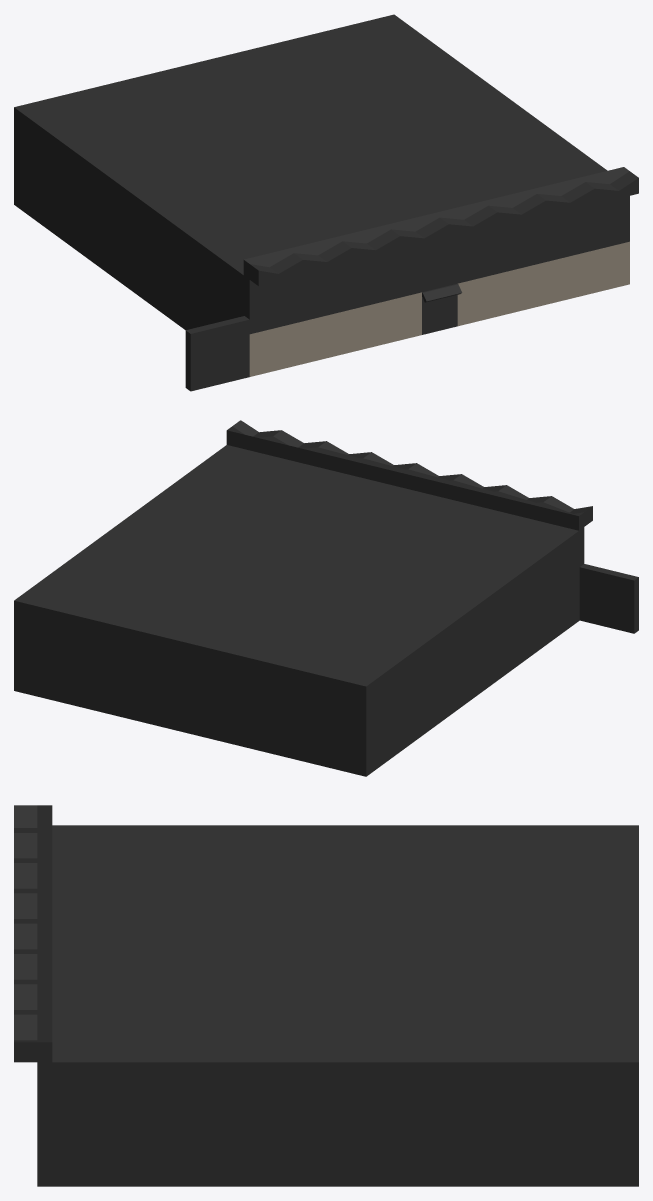
The model's file is loja_27.fbx.
3 renders of one model, top to bottom at view 1: azimuth 30°, elevation 25°; view 2: azimuth 150°, elevation 25°; view 3: azimuth 270°, elevation 25°, orthographic. The views are drawn at different scales.
Parts seen in each view (by area): view 1: Cube; view 2: Cube; view 3: Cube.
Part boxes in pixels (x1,y1,x2,y2): Cube: (14,14,638,391); Cube: (14,420,638,776); Cube: (14,805,638,1186).
Bounding box in the file's own units: 2658 × 655 × 2566.
